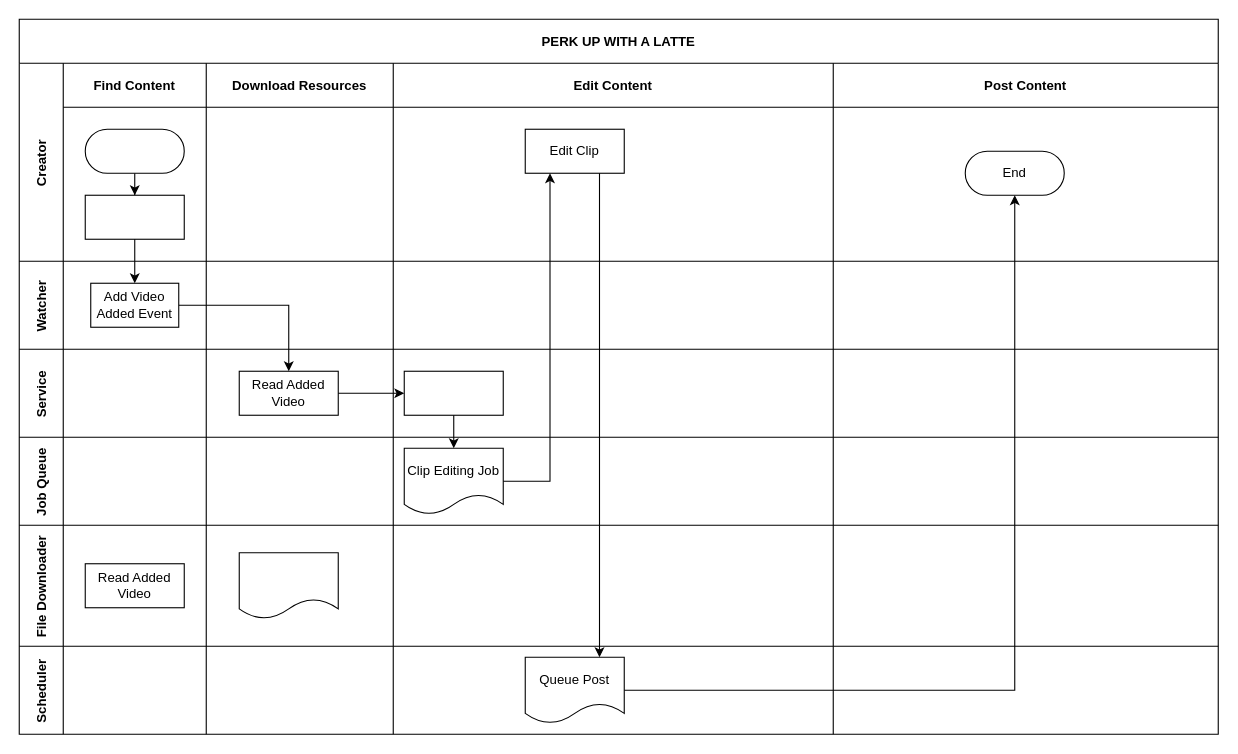
This 1238x754 diagram has some shape labels left out. Here are the shapes that lost their labels. From the top down, the box of each, then its label:
(84, 128, 184, 173): Start
(84, 194, 184, 239): Add Video to Pornhub Playlist
(403, 370, 503, 415): Create new Job
(238, 552, 338, 619): Video File
